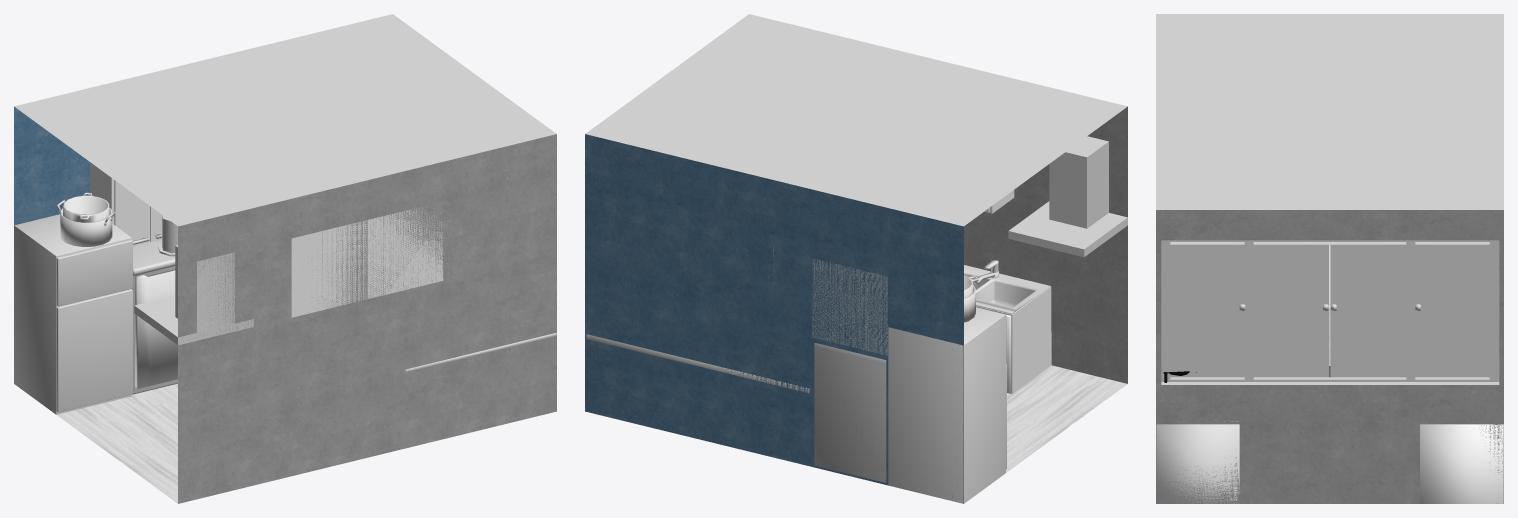
File: Kitchen.fbx
3 views of the same model, side by side, from view 1: azimuth 30°, elevation 25°; view 2: azimuth 150°, elevation 25°; view 3: azimuth 270°, elevation 25° (orthographic). The views are drawn at different scales.
Visible parts, largest first — view 1: Cuisine, Frigo 02, Cupboard 04, Cupboard 03, Yes, Door.002, Frigo 02.001, Door Left, Cylinder.026, Cylinder.027, Cupboard 01; view 2: Cuisine, Frigo 02, Frigo 02.001, Yes, Cupboard 01, Cube.047, Sink, Plate.001; view 3: Cuisine, Cuisine.002, Cuisine.005, Cuisine.003, Cuisine.004, Cuisine.001, Cube.058, Cube.049.
Part boxes in pixels (x1,y1,x2,y2): Cuisine: [14, 14, 556, 503]; Frigo 02: [14, 214, 132, 414]; Cupboard 04: [291, 220, 367, 317]; Cupboard 03: [367, 202, 443, 298]; Yes: [134, 245, 253, 345]; Door.002: [135, 269, 177, 388]; Frigo 02.001: [132, 239, 177, 394]; Door Left: [114, 180, 150, 246]; Cylinder.026: [56, 200, 115, 246]; Cylinder.027: [63, 192, 109, 222]; Cupboard 01: [90, 162, 152, 245]; Cuisine: [585, 14, 1127, 503]; Frigo 02: [888, 307, 1006, 503]; Frigo 02.001: [814, 342, 886, 482]; Yes: [1008, 136, 1127, 257]; Cupboard 01: [812, 258, 887, 355]; Cube.047: [976, 286, 1051, 393]; Sink: [964, 265, 1049, 314]; Plate.001: [586, 334, 810, 393]; Cuisine: [1156, 14, 1503, 503]; Cuisine.002: [1330, 244, 1406, 377]; Cuisine.005: [1253, 244, 1329, 377]; Cuisine.003: [1415, 244, 1489, 377]; Cuisine.004: [1170, 244, 1245, 377]; Cuisine.001: [1161, 240, 1499, 384]; Cube.058: [1420, 424, 1503, 503]; Cube.049: [1156, 424, 1239, 503].
Size of the model in its own units: 10 by 7 by 7.5.
